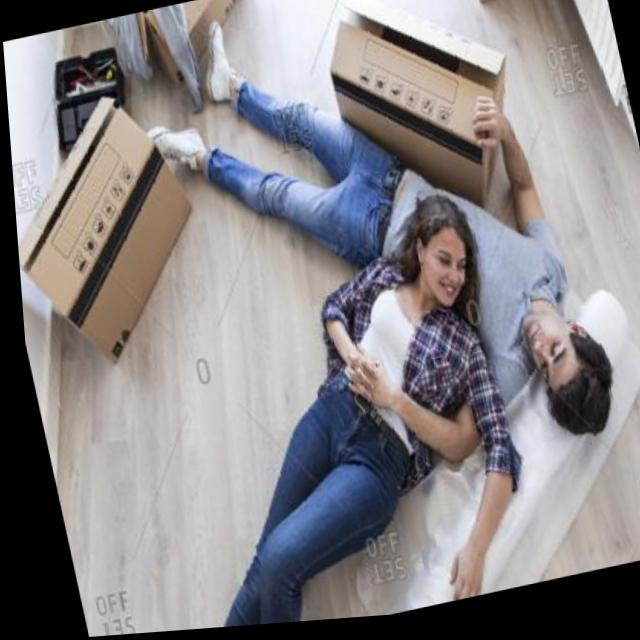box: (6, 87, 221, 390), (313, 0, 537, 233)
